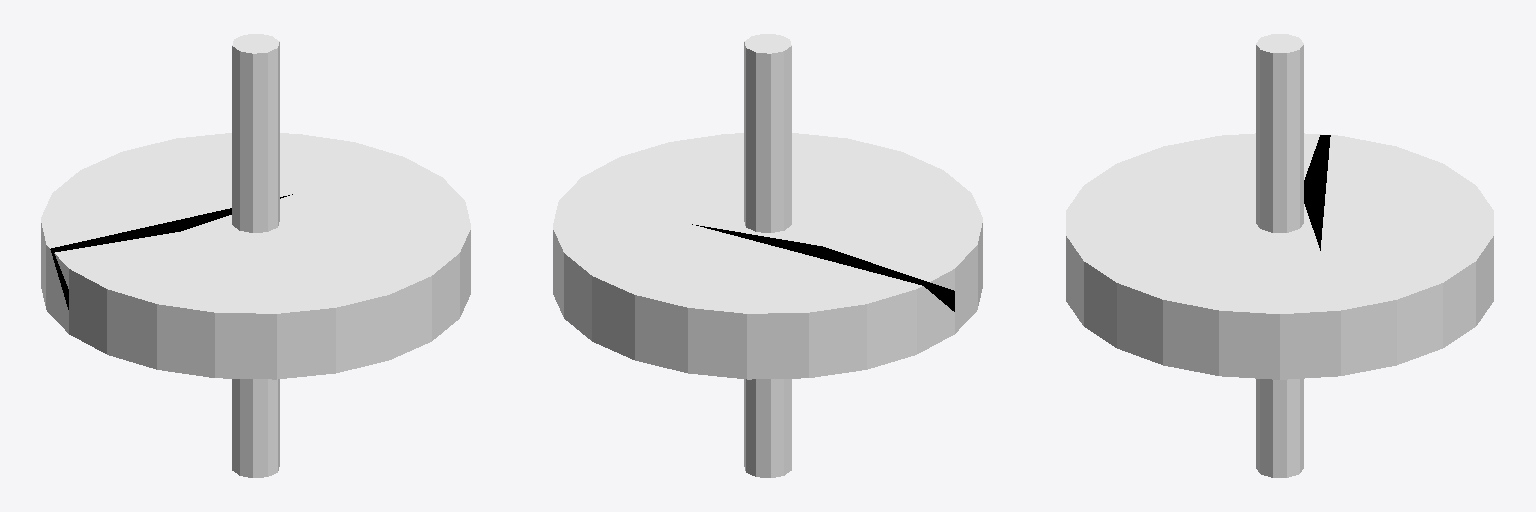
The picture shows the model from 3 angles: view 1: azimuth 30°, elevation 25°; view 2: azimuth 150°, elevation 25°; view 3: azimuth 270°, elevation 25°; orthographic projection.
Visible parts, largest first — view 1: gy1; view 2: gy1; view 3: gy1.
Boxes of the visible parts, <box> form: gy1: <box>41,34,470,477</box>; gy1: <box>553,34,982,477</box>; gy1: <box>1066,34,1493,477</box>.
Bounding box in the file's own units: 35.73 × 38.8 × 35.36.